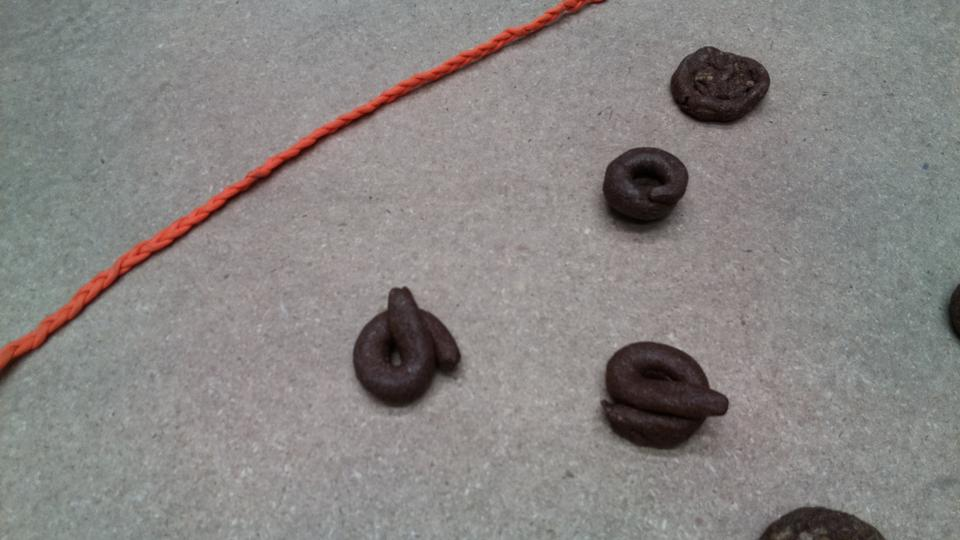poop: (597, 338, 732, 451), (348, 283, 461, 408), (668, 43, 773, 127), (600, 144, 691, 231), (756, 502, 883, 540)
rope: (1, 1, 581, 364)
